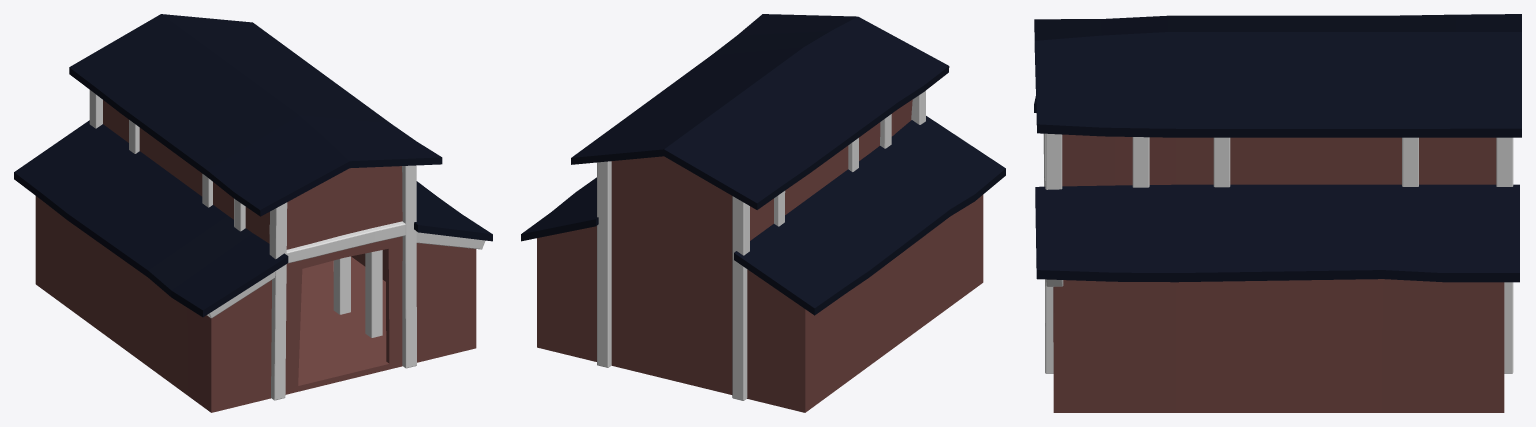
File: Stodoła.fbx
3 renders of one model, left to right at view 1: azimuth 30°, elevation 25°; view 2: azimuth 150°, elevation 25°; view 3: azimuth 270°, elevation 25°, orthographic. The views are drawn at different scales.
Parts seen in each view (by area): view 1: Barn; view 2: Barn; view 3: Barn.
Part boxes in pixels (x1=…): Barn: x1=14, y1=14, x2=492, y2=412; Barn: x1=521, y1=14, x2=1005, y2=412; Barn: x1=1034, y1=14, x2=1521, y2=412.
Size of the model in its own units: 931 by 713 by 1057.
